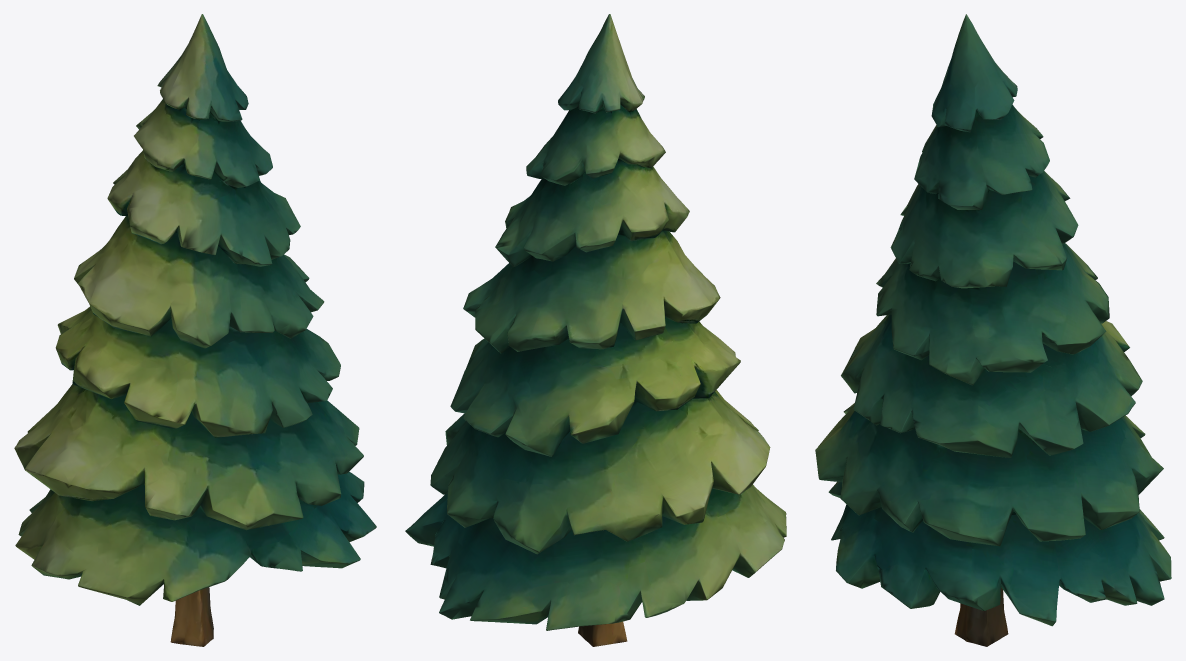
Rendered from nat_tree_pine_v1.glb.
3 views of the same model, side by side, from view 1: azimuth 30°, elevation 25°; view 2: azimuth 150°, elevation 25°; view 3: azimuth 270°, elevation 25° (orthographic).
Parts seen in each view (by area): view 1: tripo_node_a291dbbb-4de1-442b-be24-17941ea1254c; view 2: tripo_node_a291dbbb-4de1-442b-be24-17941ea1254c; view 3: tripo_node_a291dbbb-4de1-442b-be24-17941ea1254c.
Boxes of the visible parts, x1,y1,x2,y2 form: tripo_node_a291dbbb-4de1-442b-be24-17941ea1254c: (14, 14, 376, 646); tripo_node_a291dbbb-4de1-442b-be24-17941ea1254c: (405, 14, 786, 646); tripo_node_a291dbbb-4de1-442b-be24-17941ea1254c: (815, 14, 1171, 646).
Bounding box in the file's own units: 0.5409 × 0.9803 × 0.5089.
1 material, 1 textured.
